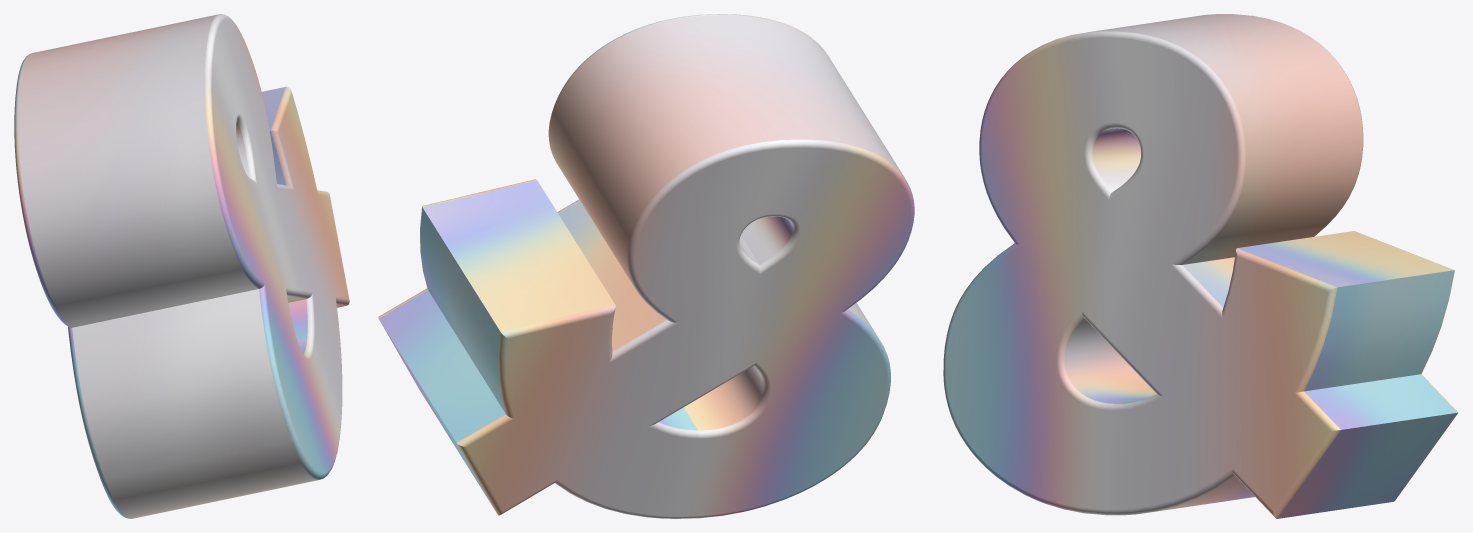
3 views of the same model, side by side, from view 1: azimuth 30°, elevation 25°; view 2: azimuth 150°, elevation 25°; view 3: azimuth 270°, elevation 25° (orthographic). The views are drawn at different scales.
Parts seen in each view (by area): view 1: &; view 2: &; view 3: &.
Part boxes in pixels (<box>): &: <box>14,14,349,518</box>; &: <box>378,14,914,518</box>; &: <box>943,14,1458,518</box>.
Size of the model in its own units: 4.65 by 4.99 by 4.84.
1 material, 1 textured.
